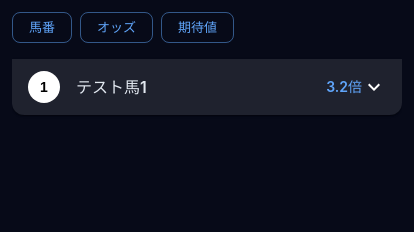
RaceTableMobileView › 期待値が0の場合も正しく表示されること
Click the icon with test id "ExpandMoreIcon": point(374, 87) [362,75,386,99]
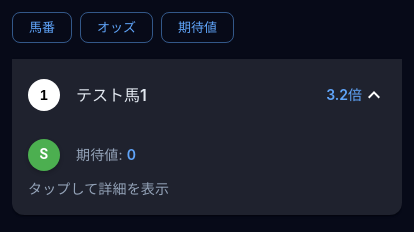
Expected: the text "期待値:" is shown, [76,146,123,163]
Expected: the text "0" is shown, [127,146,136,163]
